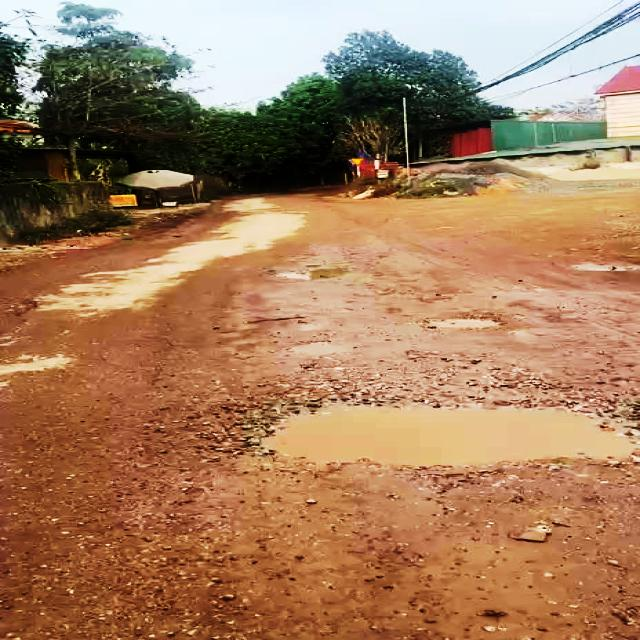pothole: (238, 392, 640, 473), (426, 314, 505, 331)
